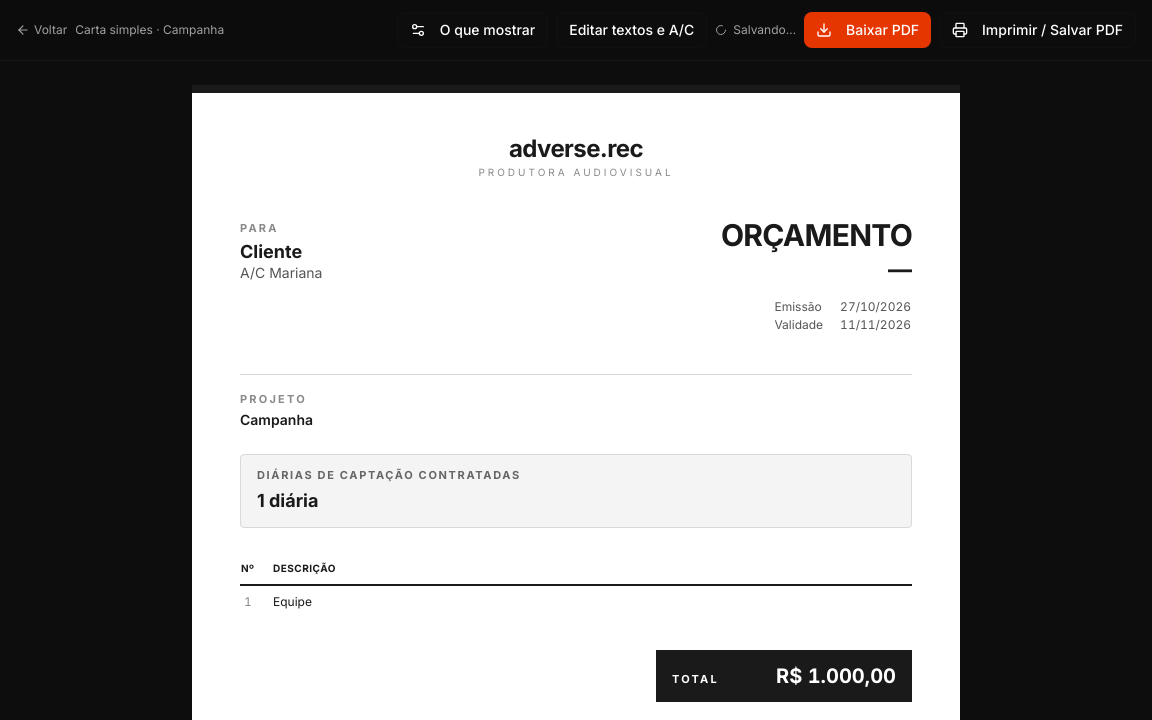
Test case: carta simples — edição e exportação › não exporta quando o salvamento falha e permite tentar novamente
Earlier steps of the test are not shown.
Later steps or results of the test are not shown.
Click the button "Editar textos e A/C".
click(632, 30)  # box 556,12 -> 707,48
Click the button "Baixar PDF".
click(868, 30)  # box 804,12 -> 931,48
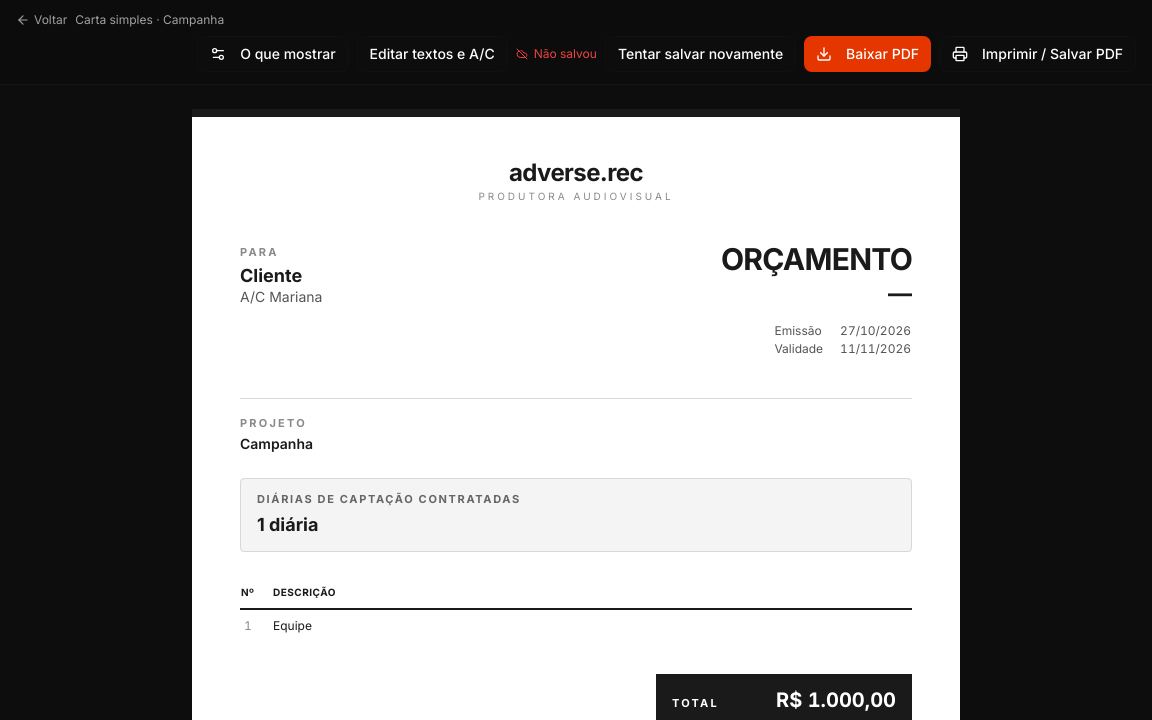
expect the button "Tentar salvar novamente" is shown: met, box 605,36 -> 796,72
